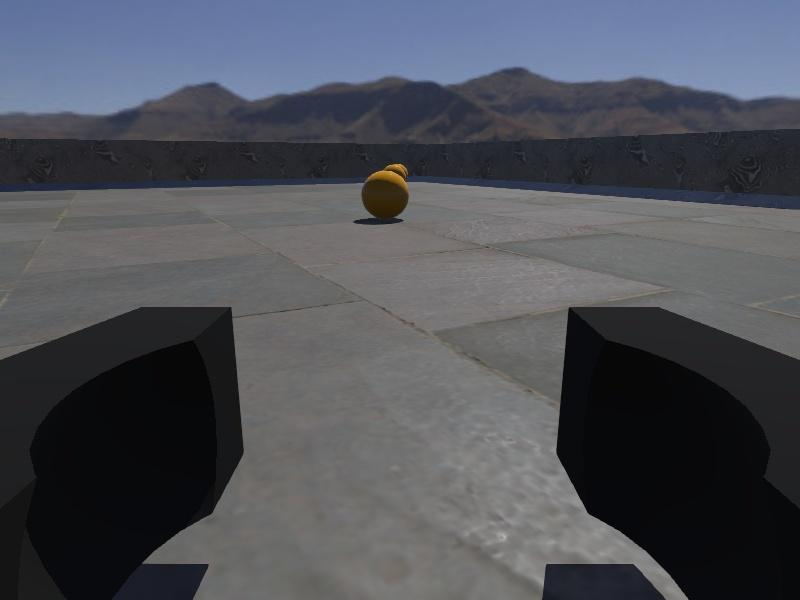orange ball: (360, 169, 410, 221)
